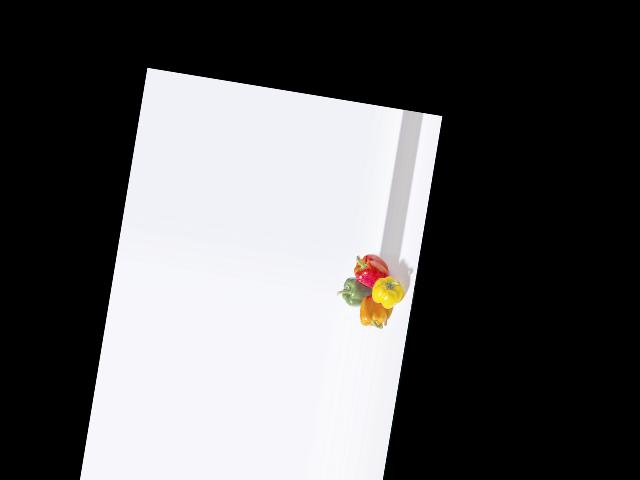bell_pepper: (348, 250, 391, 289)
